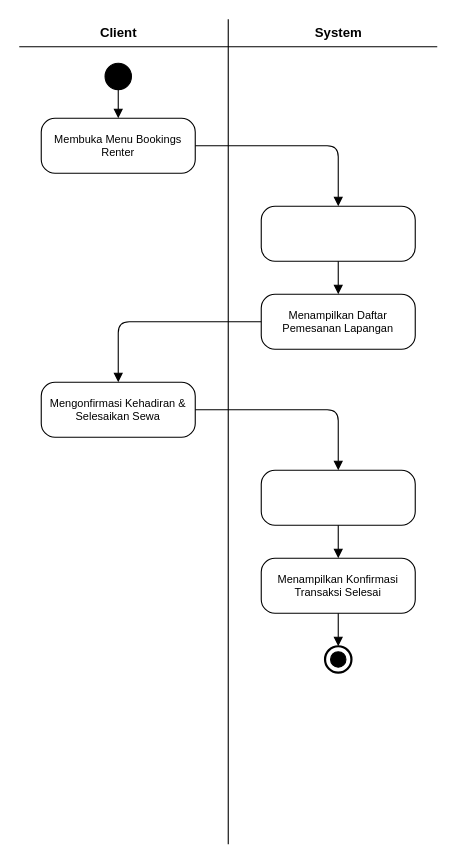
This 458x865 diagram has some shape labels left out. Here are the shapes that lost their labels. From the top down, the centre of each, then its label:
At [337,233]: "Mengambil Data Booking Venue Renter".
At [337,497]: "Mengubah Status Booking COMPLETED".
